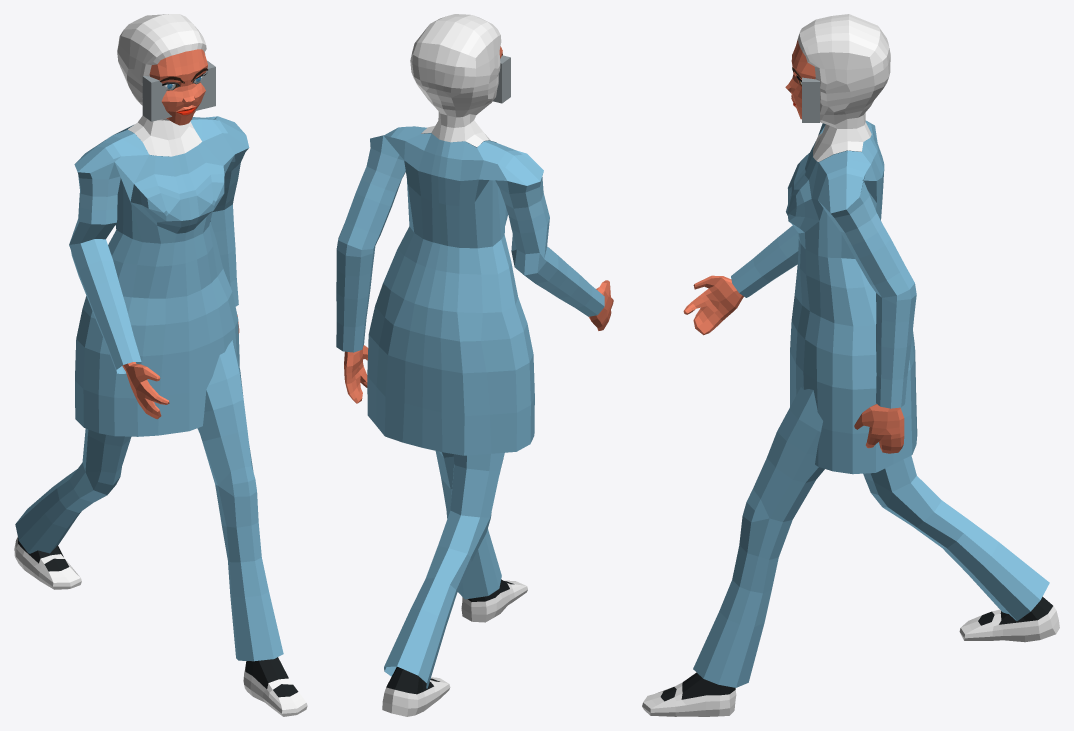
Rendered from Nurse_Walk_Mask.fbx.
3 renders of one model, left to right at view 1: azimuth 30°, elevation 25°; view 2: azimuth 150°, elevation 25°; view 3: azimuth 270°, elevation 25°, orthographic. The views are drawn at different scales.
Parts seen in each view (by area): view 1: Nurse_Walk_Mask; view 2: Nurse_Walk_Mask; view 3: Nurse_Walk_Mask.
Part boxes in pixels (bbox=[...]): Nurse_Walk_Mask: bbox=[14, 14, 307, 716]; Nurse_Walk_Mask: bbox=[336, 14, 613, 716]; Nurse_Walk_Mask: bbox=[642, 14, 1059, 716].
Size of the model in its own units: 0.2819 by 0.8973 by 0.5063.
